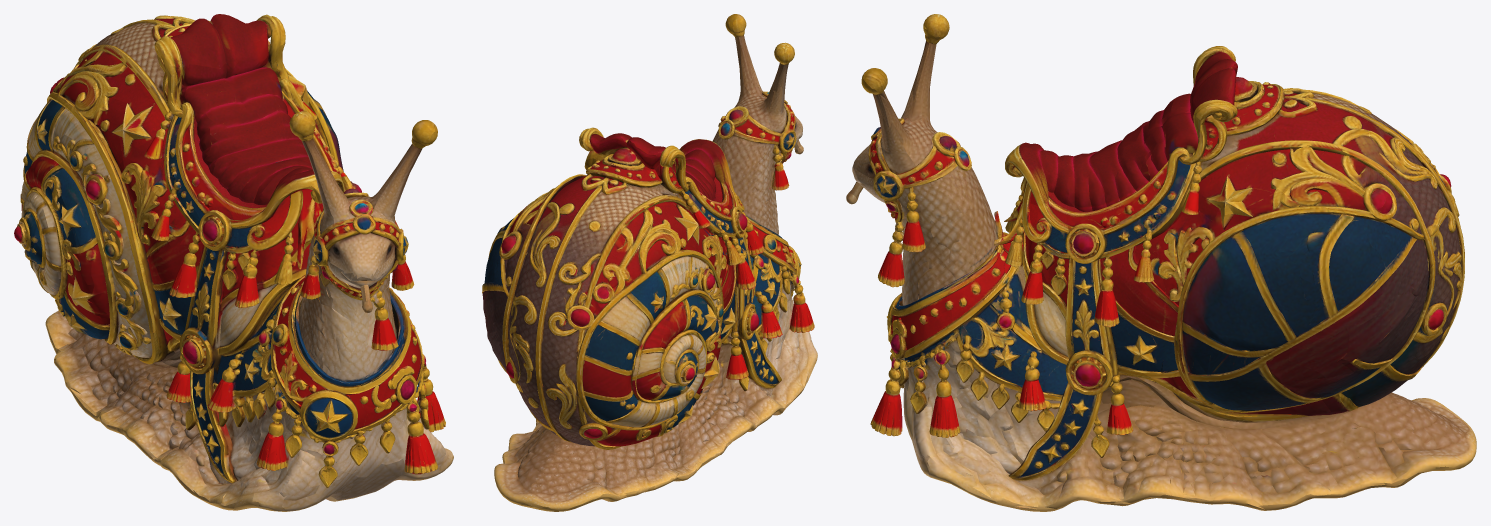
The model's file is snail.glb.
3 views of the same model, side by side, from view 1: azimuth 30°, elevation 25°; view 2: azimuth 150°, elevation 25°; view 3: azimuth 270°, elevation 25° (orthographic). The views are drawn at different scales.
Bounding box in the file's own units: 0.9619 × 1.4 × 1.9.
Materials: 1 (1 with a texture image).
